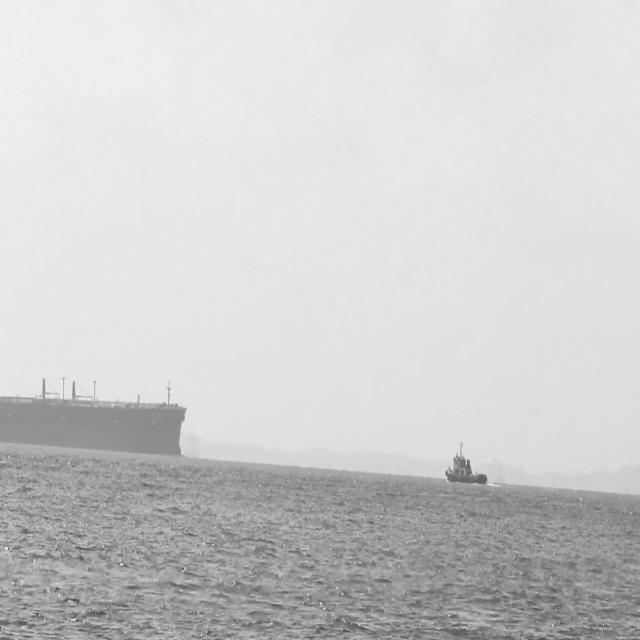ship: (1, 378, 186, 460), (444, 440, 492, 490)
